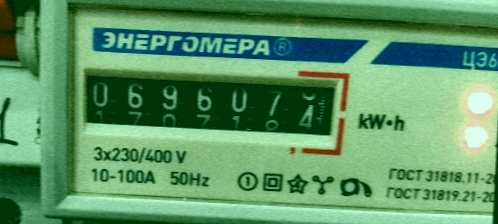0: (229, 81, 249, 112), (90, 76, 110, 105)
4: (297, 99, 315, 128)
6: (125, 77, 146, 106), (194, 81, 214, 111)
7: (265, 85, 283, 115)
9: (160, 80, 178, 109)
screen: (66, 48, 356, 152)
